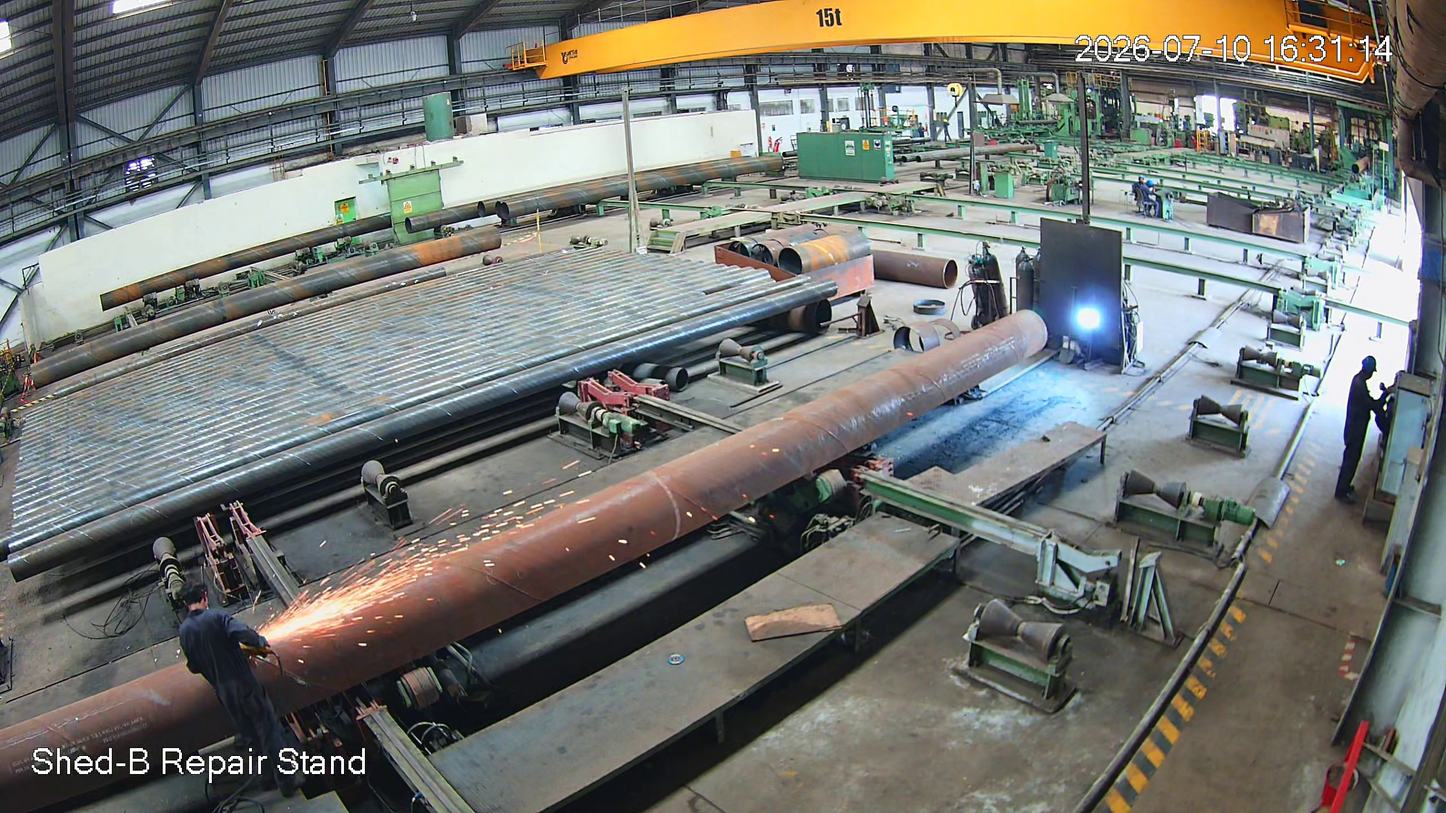Helmet: (1359, 349, 1391, 394)
Person: (173, 581, 303, 791), (1336, 350, 1382, 513)
